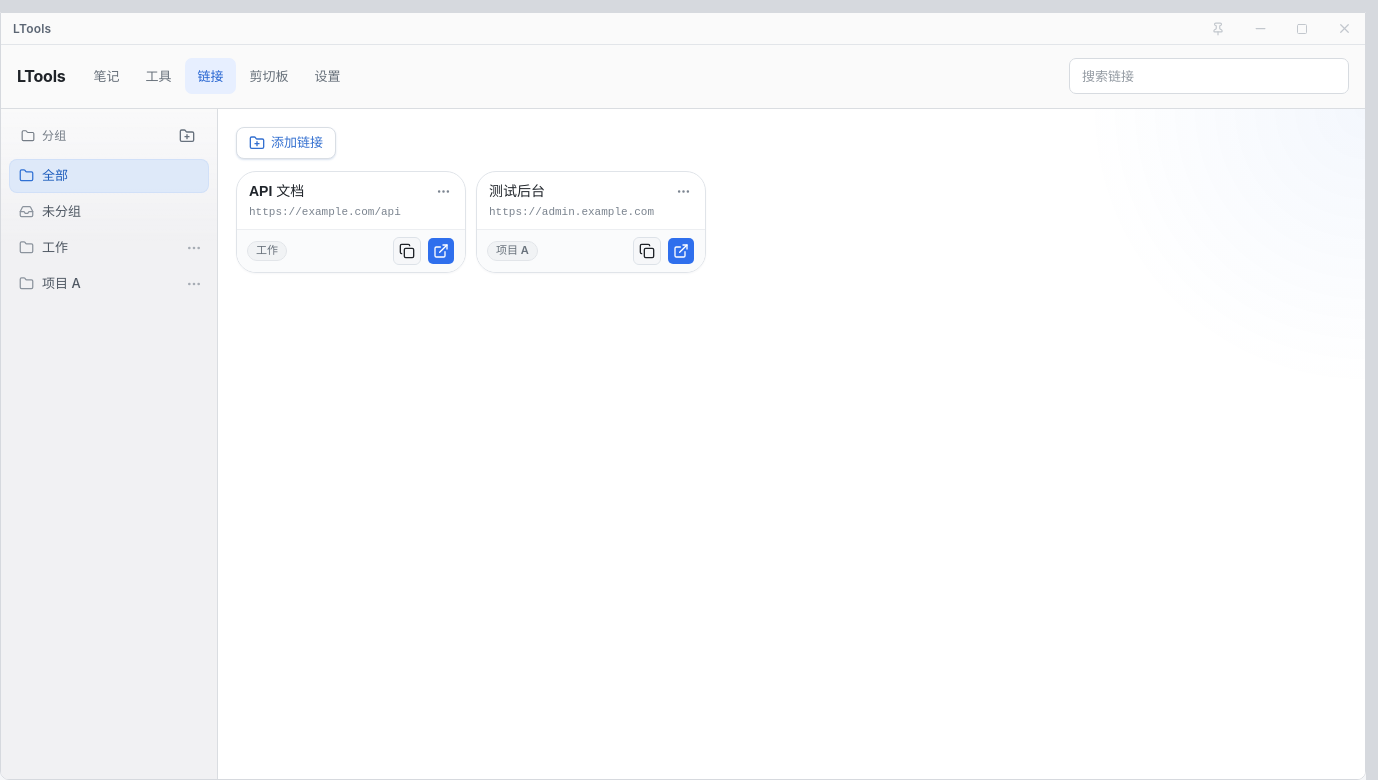
Scenario: links static interactions › shows an accessible empty state for unmatched searches and restores cards when cleared
Type "不存在的链接" into the search field labelled "搜索链接" at (1209, 76), box [1069,58,1349,94]
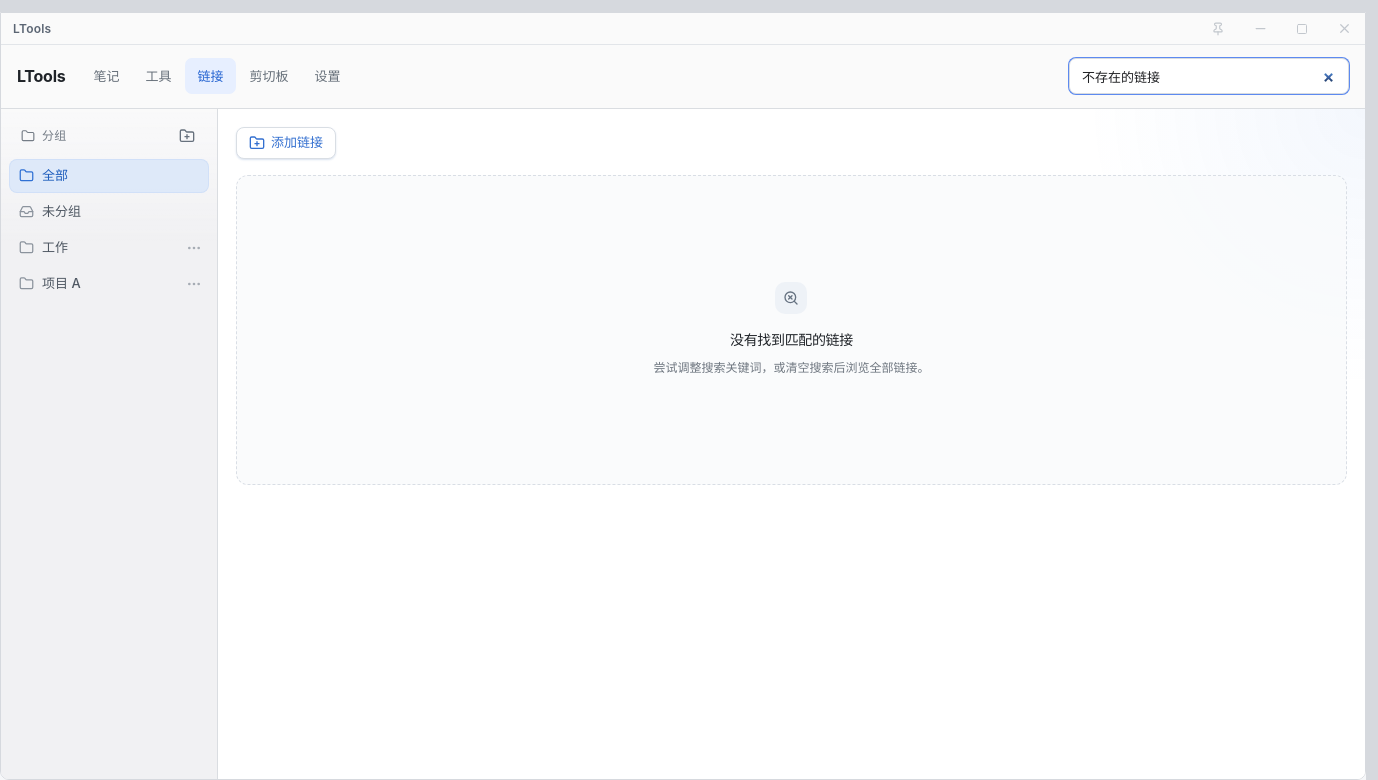
Expected: the message shows "没有找到匹配的链接", [730,332,853,348]
Expected: the heading "API 文档" is gone
Expected: the heading "测试后台" is gone
Clear the search field named "搜索链接" at (1209, 76), box [1069,58,1349,94]
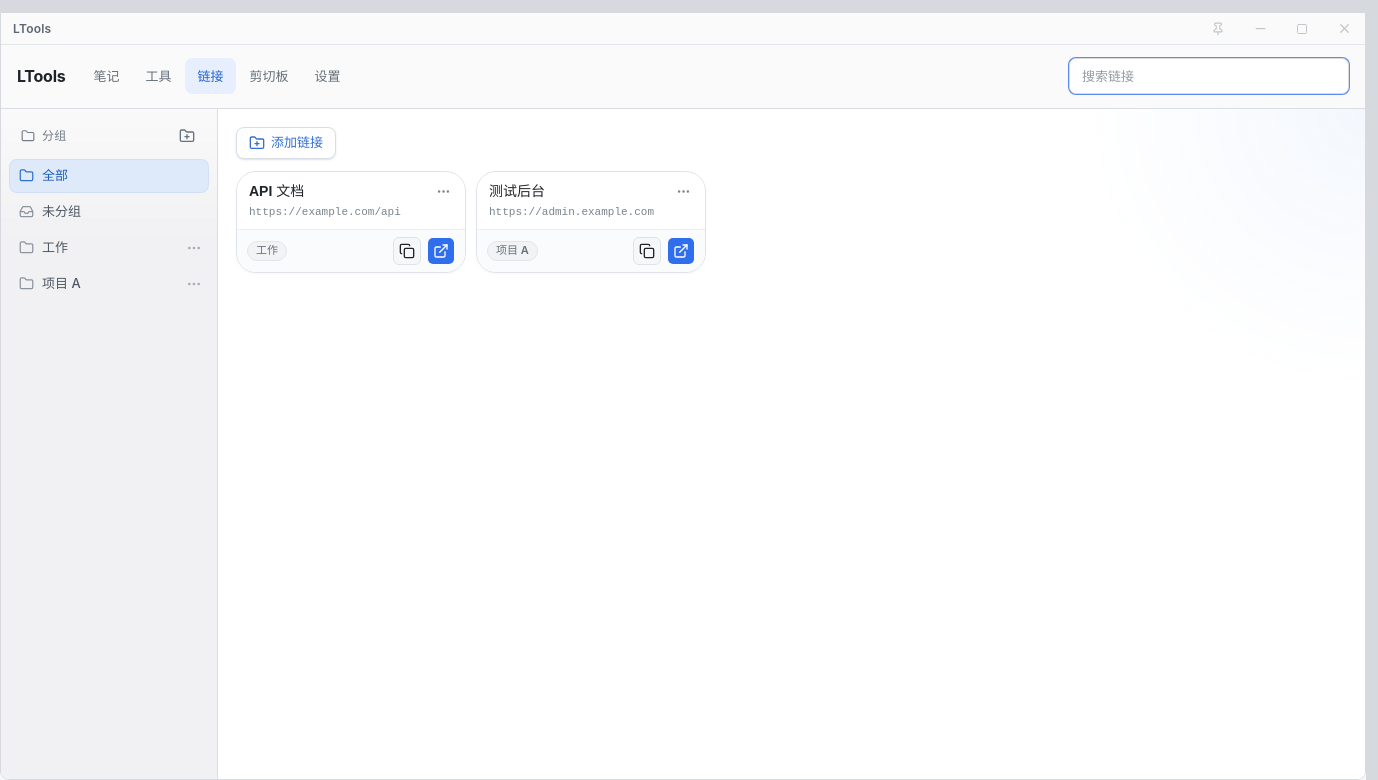
Expected: the message "没有找到匹配的链接 尝试调整搜索关键词，或清空搜索后浏览全部链接。" is gone
Expected: the heading "API 文档" is shown, [249,183,304,199]
Expected: the heading "测试后台" is shown, [489,183,545,199]
